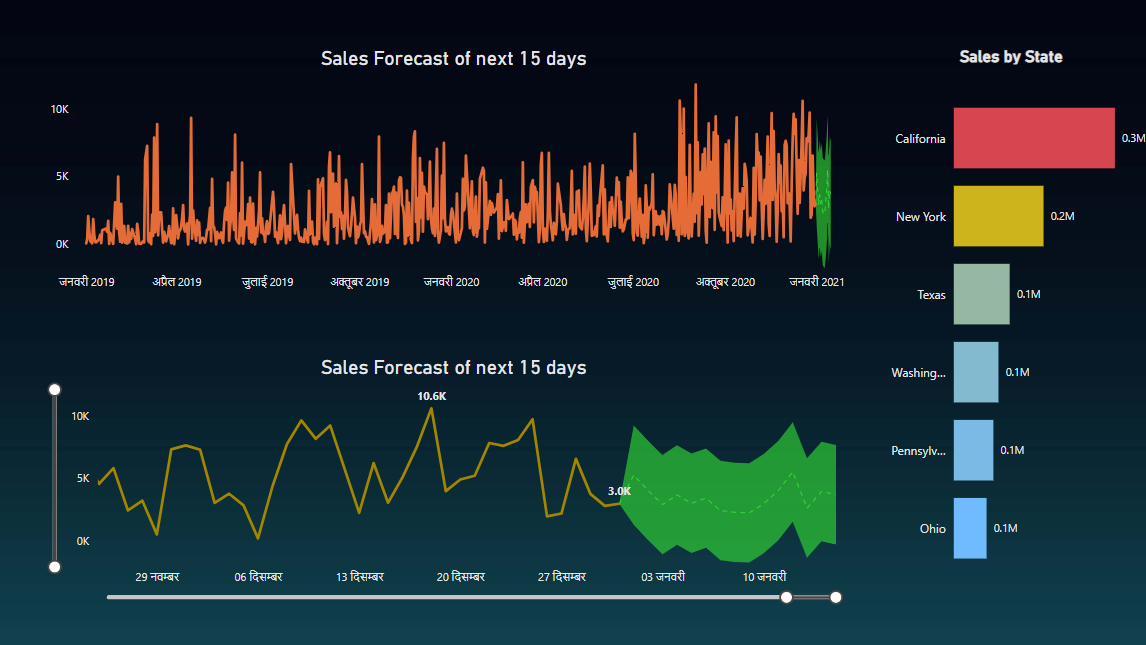

The page's visual inventory and layout, read from the dashboard file:
{"tool":"powerbi","page":{"name":"SALES FORECAST OF NEXT 15 DAYS","canvas":[1280,720],"ordinal":1},"visuals":[{"type":"lineChart","title":"Sales Forecast of next 15 days","fields":{"Y":["Sum(SuperStore_Sales_Dataset.Sales)"],"Category":["SuperStore_Sales_Dataset.Order Date"]},"box":[52.5,50.9,909.1,279.7],"z":0},{"type":"lineChart","title":"Sales Forecast  of next 15 days","fields":{"Y":["Sum(SuperStore_Sales_Dataset.Sales)"],"Category":["SuperStore_Sales_Dataset.Order Date"]},"box":[52.5,394.2,909.1,279.7],"z":1000},{"type":"clusteredBarChart","title":"Sales by State","fields":{"Category":["SuperStore_Sales_Dataset.State"],"Y":["Sum(SuperStore_Sales_Dataset.Sales)"]},"box":[971.1,50.9,308.3,610.3],"z":2000}]}

Visuals, with their boxes in screenshot pixels (x1, y1, x2, y2), scaled from the page's 1280x720 canvas onto the 1146x645 screenshot:
"Sales Forecast of next 15 days" lineChart: 47 46 861 296
"Sales Forecast  of next 15 days" lineChart: 47 353 861 604
"Sales by State" clusteredBarChart: 869 46 1145 592
